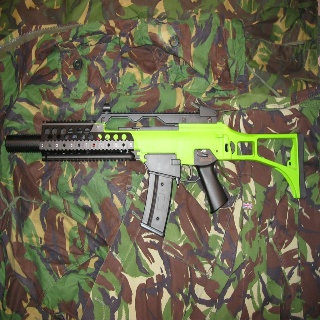rifle: (4, 102, 304, 238)
